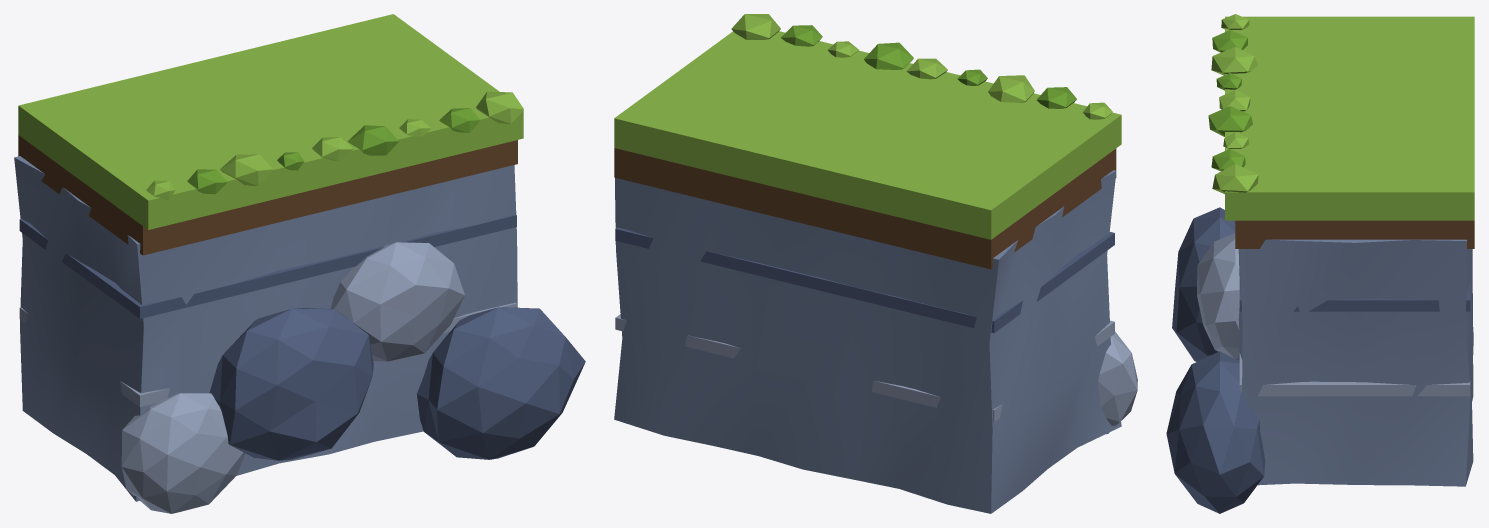
File: islandCliff.glb
3 views of the same model, side by side, from view 1: azimuth 30°, elevation 25°; view 2: azimuth 150°, elevation 25°; view 3: azimuth 270°, elevation 25° (orthographic). The views are drawn at different scales.
Visible parts, largest first — view 1: islandCliff_mesh; view 2: islandCliff_mesh; view 3: islandCliff_mesh.
Part boxes in pixels (box(x1,y1,x2,y2)): islandCliff_mesh: box(14, 14, 585, 513); islandCliff_mesh: box(614, 14, 1137, 513); islandCliff_mesh: box(1166, 14, 1474, 513).
Size of the model in its own units: 4.86 by 3.61 by 2.96.
